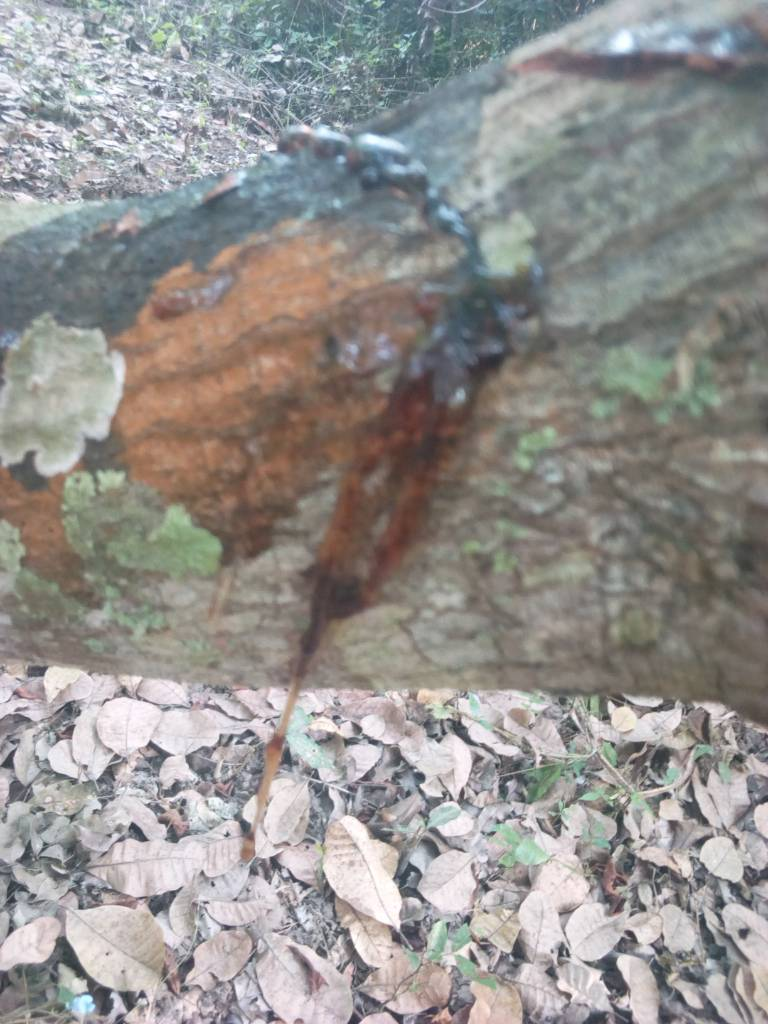Mecocorynus longiceps: (229, 88, 538, 690), (471, 1, 768, 117)
